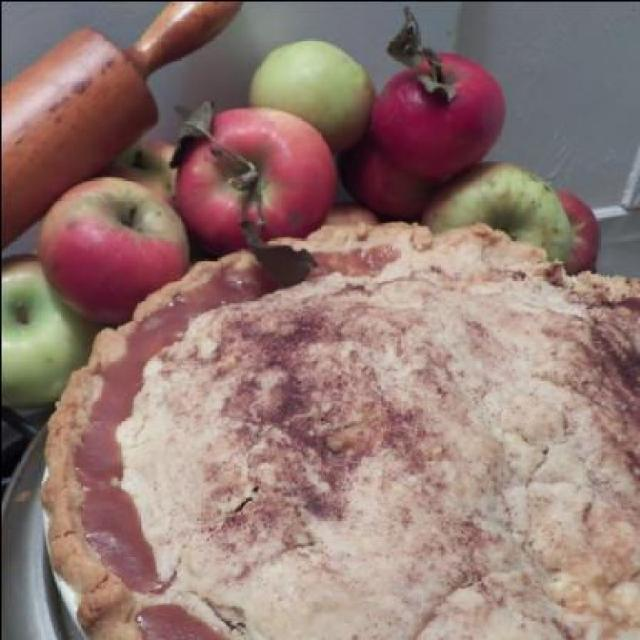Apple: (1, 34, 601, 412), (35, 168, 194, 328), (370, 7, 507, 176)
